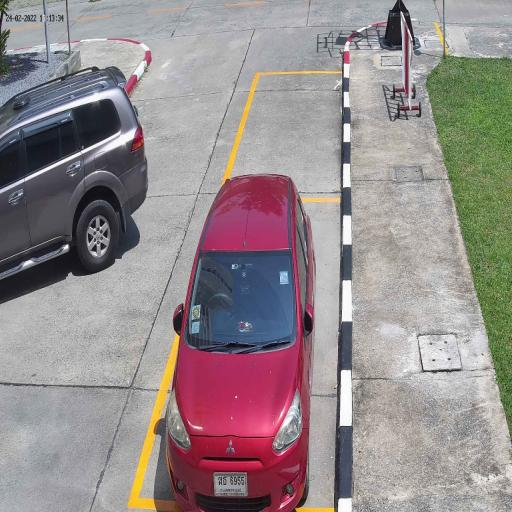car: (163, 171, 318, 512), (0, 65, 150, 283)
